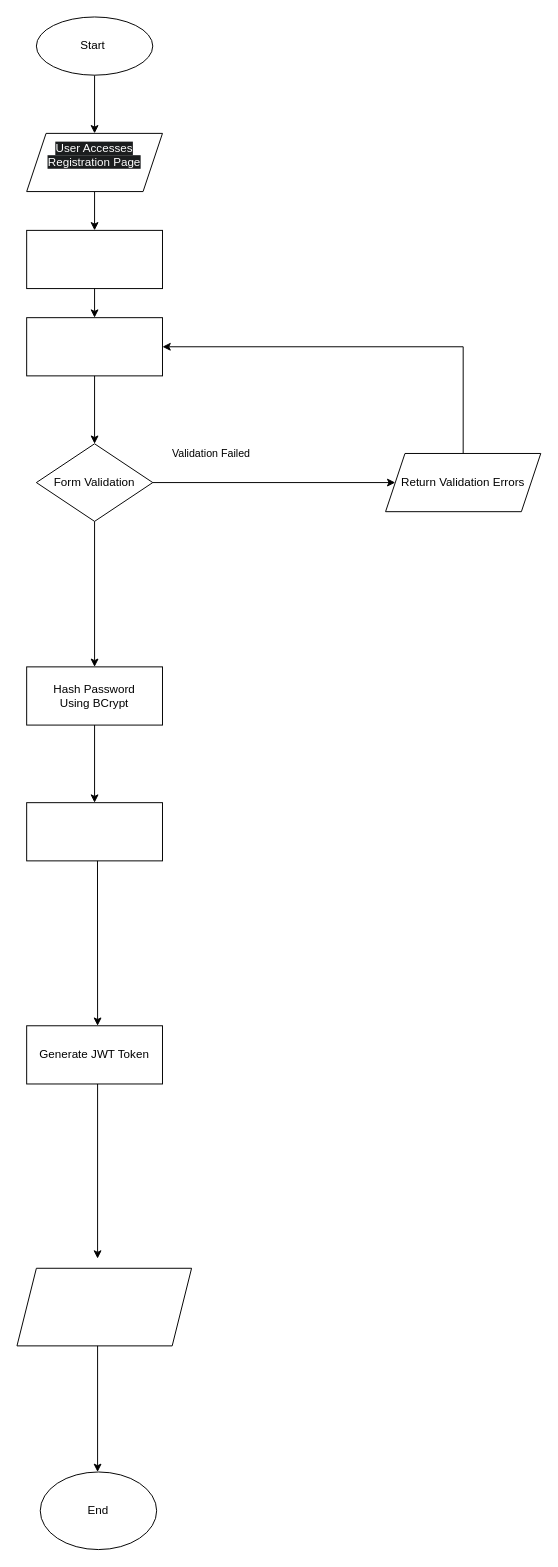
This 558x1567 diagram has some shape labels left out. The box of each missing label's shape, as (x1, y1, x2, y2) in pixels:
Fill Registration Form Email, Password, User Type: (26, 317, 162, 376)
Redirect to Dashboard With Success Message: (16, 1267, 192, 1346)
Select Registration Type Guest/Host: (26, 229, 162, 289)
store user in database with role: (26, 802, 162, 861)
